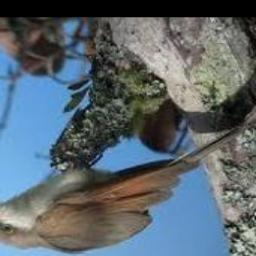Cuckoo: (0, 124, 246, 254)
